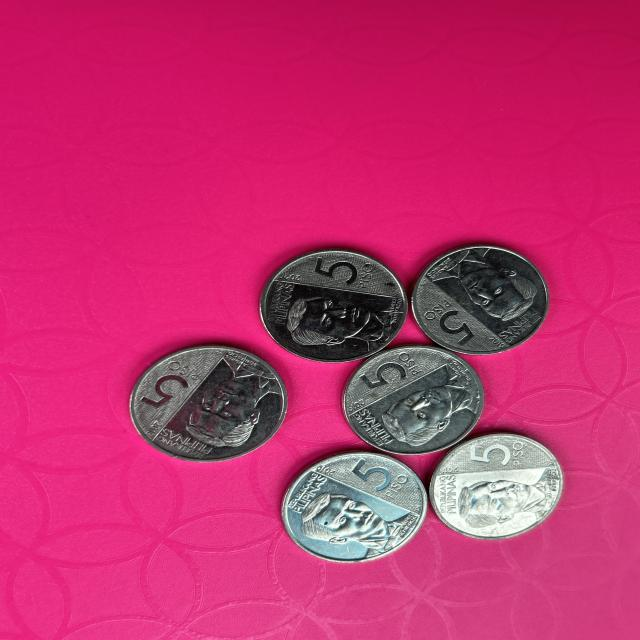5_New_Front: (135, 356, 208, 422), (347, 348, 427, 398), (424, 294, 484, 350), (351, 453, 417, 503), (460, 436, 534, 476), (300, 254, 369, 292)
